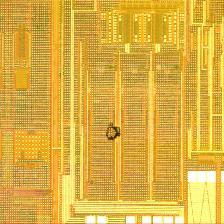PARTICLE: (104, 123, 124, 143)
